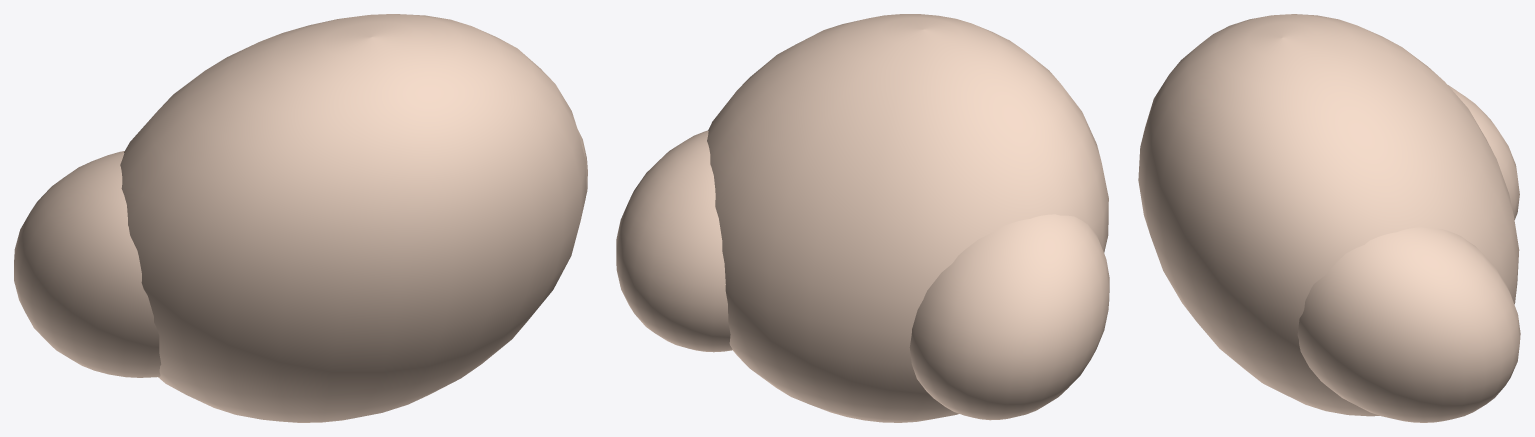
3 renders of one model, left to right at view 1: azimuth 30°, elevation 25°; view 2: azimuth 150°, elevation 25°; view 3: azimuth 270°, elevation 25°, orthographic. The views are drawn at different scales.
Visible parts, largest first — view 1: Nose_Tip, Nose_Wing_-1; view 2: Nose_Tip, Nose_Wing_-1, Nose_Wing_1; view 3: Nose_Tip, Nose_Wing_1, Nose_Wing_-1.
Boxes of the visible parts, <box> form: Nose_Tip: <box>120,14,586,422</box>; Nose_Wing_-1: <box>14,151,161,377</box>; Nose_Tip: <box>707,14,1108,422</box>; Nose_Wing_-1: <box>909,214,1109,420</box>; Nose_Wing_1: <box>616,130,732,352</box>; Nose_Tip: <box>1138,14,1519,416</box>; Nose_Wing_1: <box>1297,227,1520,422</box>; Nose_Wing_-1: <box>1448,85,1519,219</box>.
Size of the model in its own units: 0.0502 by 0.036 by 0.0351.
